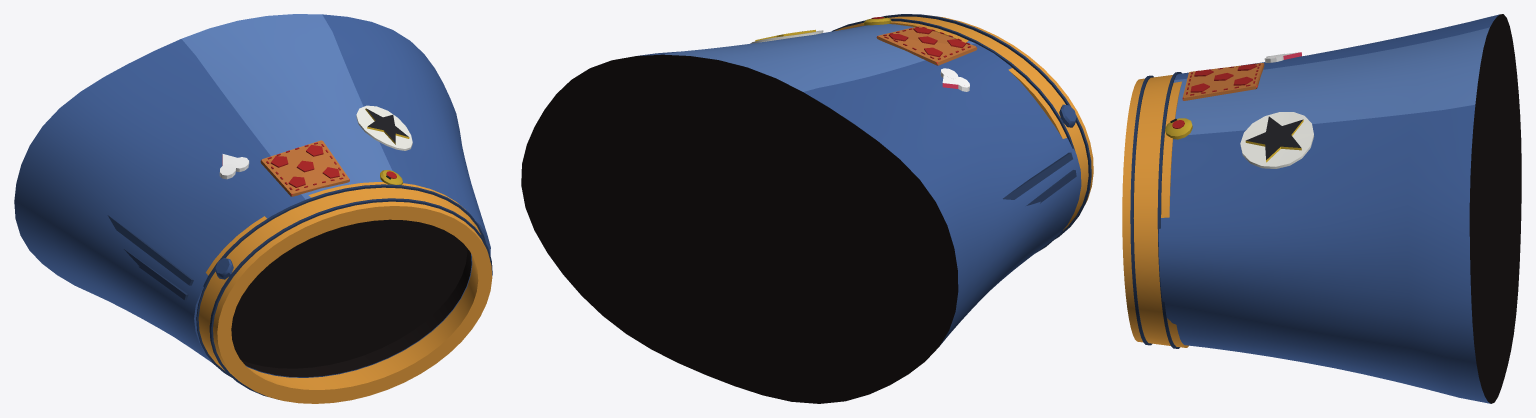
The model's file is Sleeve_Denim.fbx.
3 views of the same model, side by side, from view 1: azimuth 30°, elevation 25°; view 2: azimuth 150°, elevation 25°; view 3: azimuth 270°, elevation 25° (orthographic). The views are drawn at different scales.
Parts seen in each view (by area): view 1: Sleeve_Denim; view 2: Sleeve_Denim; view 3: Sleeve_Denim.
Boxes of the visible parts, x1,y1,x2,y2 form: Sleeve_Denim: [14, 14, 492, 403]; Sleeve_Denim: [521, 14, 1093, 403]; Sleeve_Denim: [1122, 14, 1521, 403].
Size of the model in its own units: 0.9971 by 0.6456 by 0.7374.
1 material, 1 textured.
